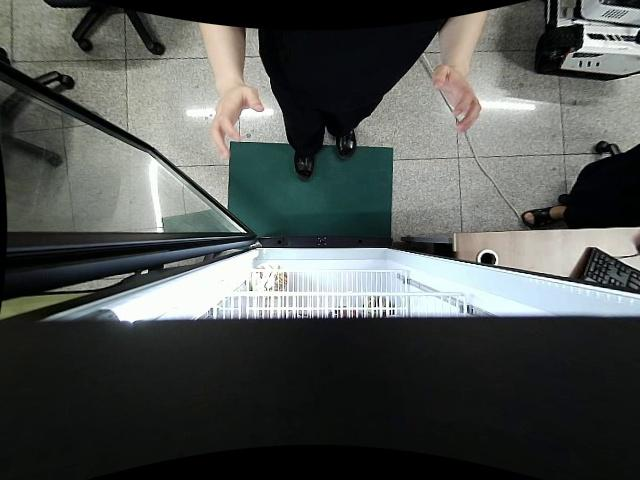00_hand: (207, 87, 263, 157), (434, 64, 483, 133)
